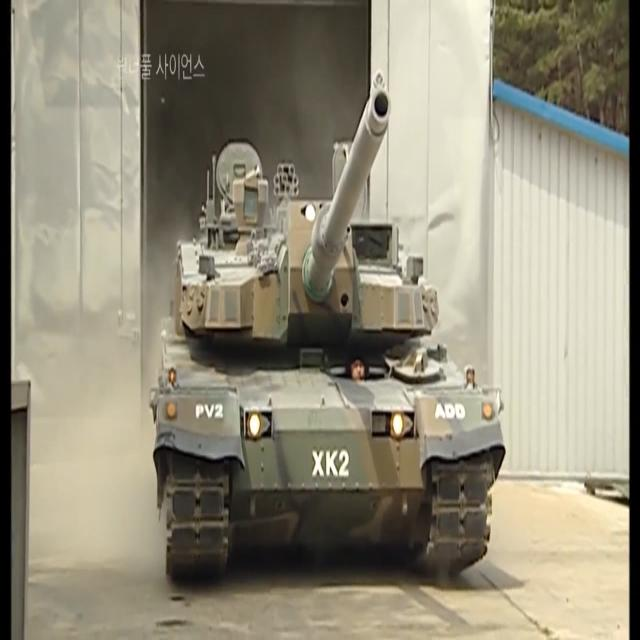korea tank: (148, 69, 508, 583)
